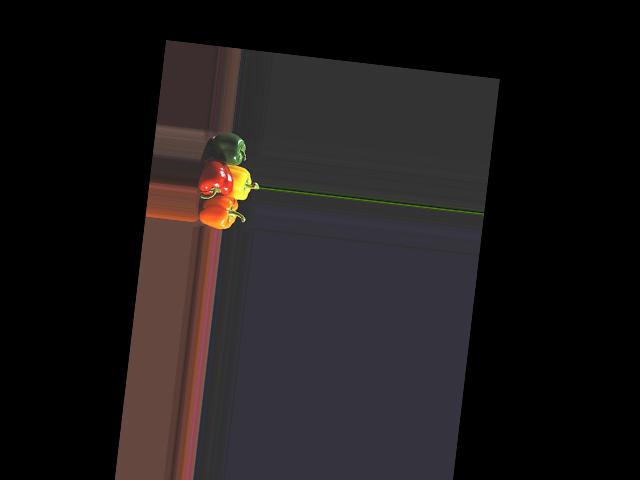bell_pepper: (191, 191, 244, 231)
